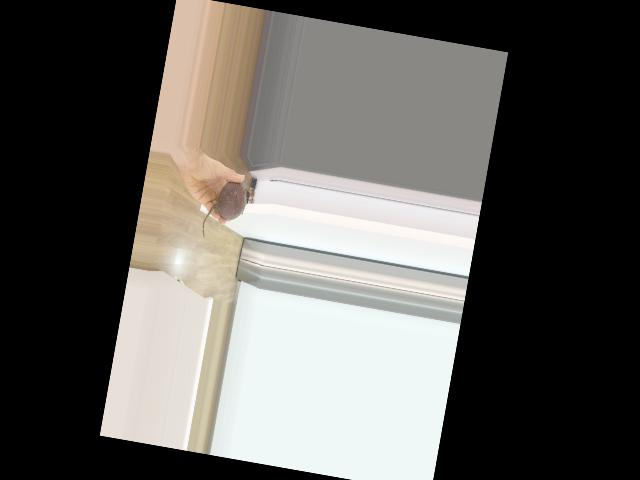beet: (200, 177, 251, 244)
